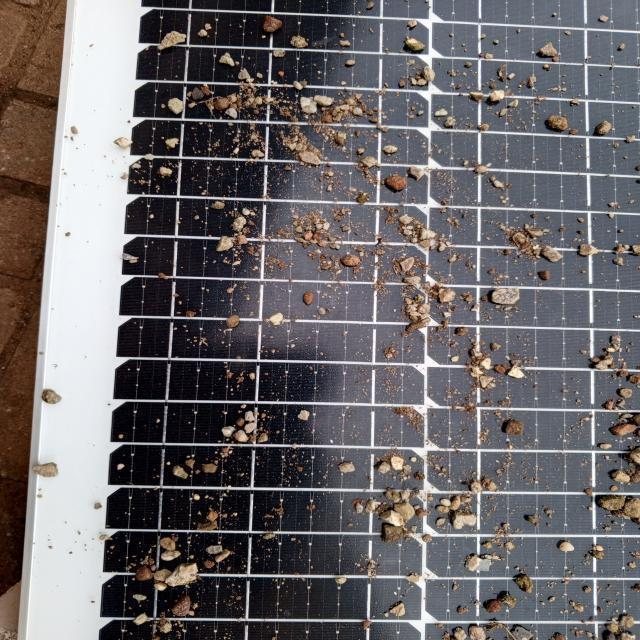Surface Contaminant: (77, 4, 639, 639)
